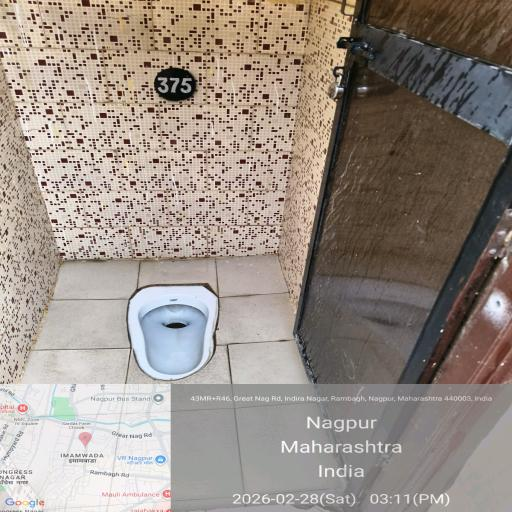clean_floor: (29, 114, 292, 250)
partial_dirty_floor: (42, 265, 311, 385), (81, 0, 246, 106), (302, 128, 400, 276)
